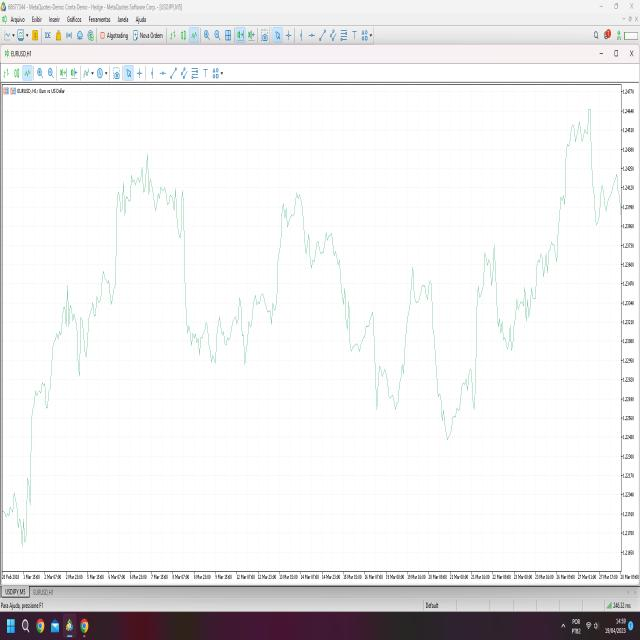bandeira_baixa: (180, 187, 228, 369)
fundo_duplo: (371, 301, 408, 425)
